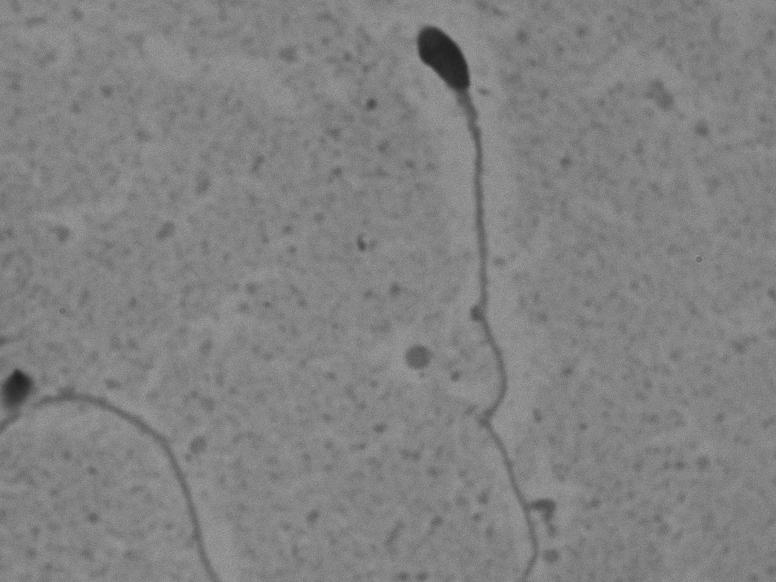Abnormal: (368, 18, 578, 571)
